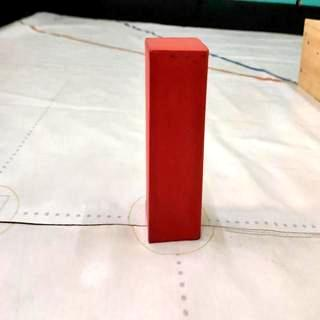redbox: (144, 37, 208, 240)
